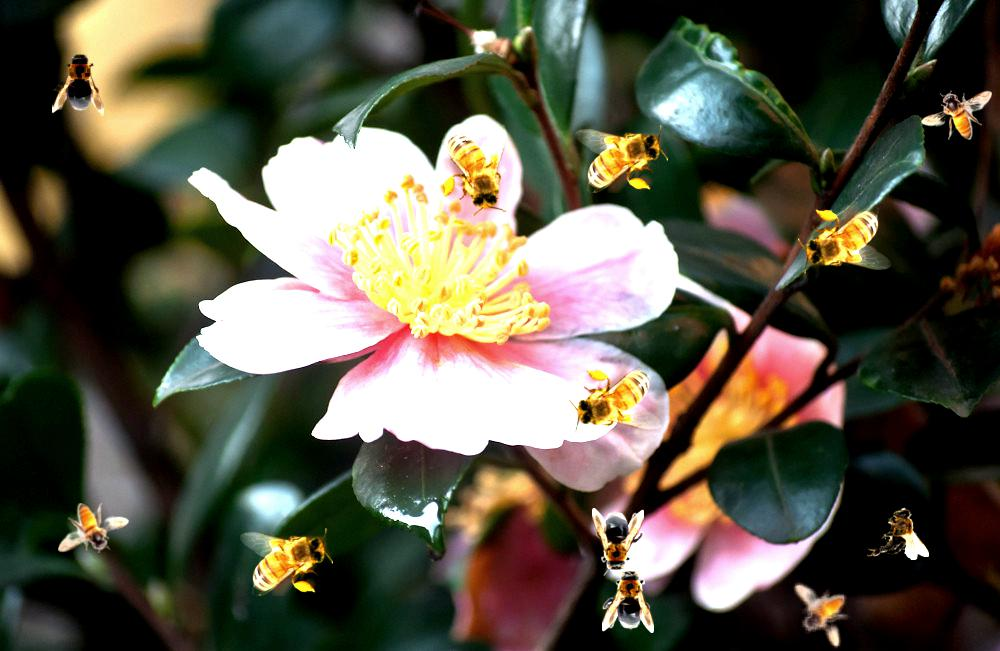Bee: (438, 121, 512, 218), (798, 206, 891, 274), (240, 528, 333, 596), (575, 125, 668, 193), (569, 366, 662, 434), (792, 574, 856, 651), (58, 503, 129, 553), (921, 90, 992, 140), (602, 565, 654, 633), (52, 48, 104, 116), (592, 508, 644, 576), (867, 507, 929, 560)
